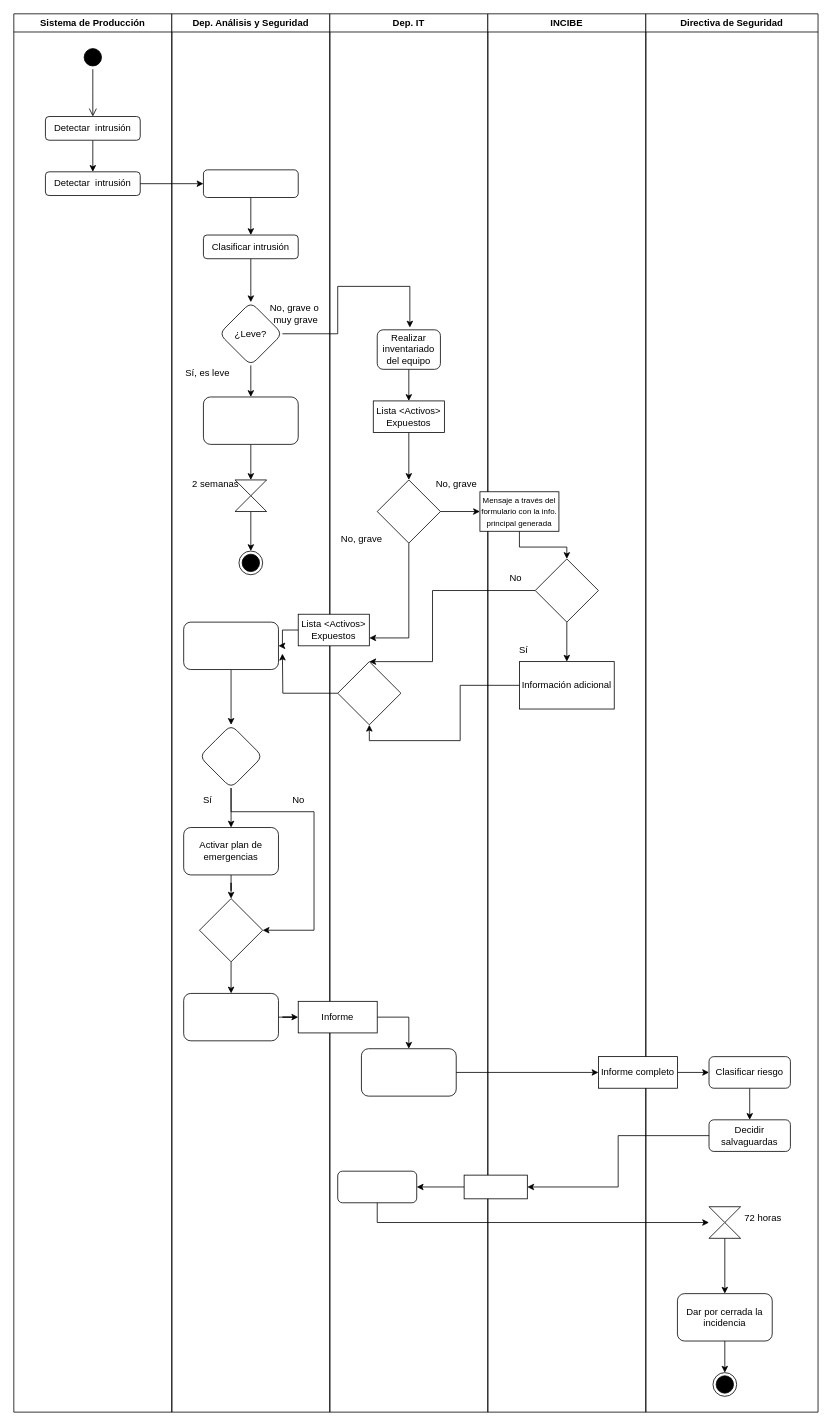
The diagram is 832 pixels wide and 1426 high, and some of its shapes have lost their labels. The shapes that lost their labels are listed below. From the top down, each one's centre as x and y in pixels, then its label:
At [250,183]: "Realizar análisis de la intrusión".
At [250,420]: "Actualizar BBDD".
At [408,511]: "¿Muy grave?".
At [566,590]: "¿Genera info. adicional?".
At [230,645]: "Análisis para <Activo> <i> de la Lista".
At [231,756]: "¿<Activo> supera umbral crítico?".
At [230,1017]: "Generar informe".
At [408,1072]: "Completar informe con valoración de costes".
At [377,1186]: "Implementar Salvaguardas".
At [495,1186]: "Salvaguardas".
